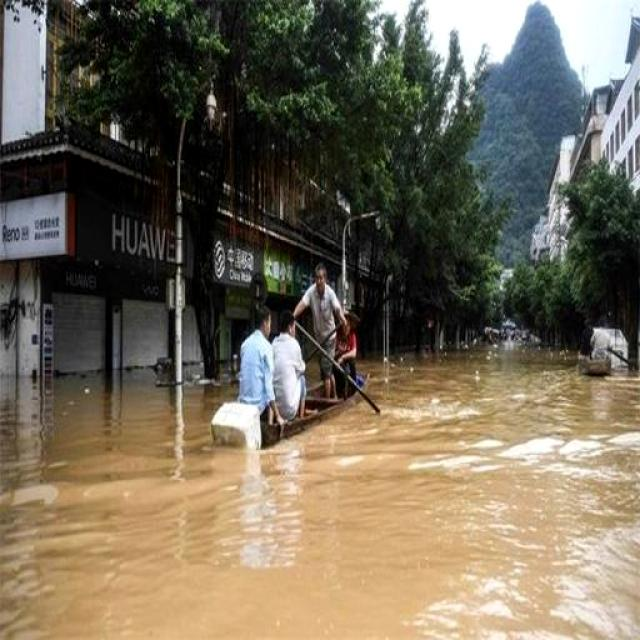civilian: (290, 251, 357, 420), (222, 290, 283, 412), (268, 314, 311, 422)
